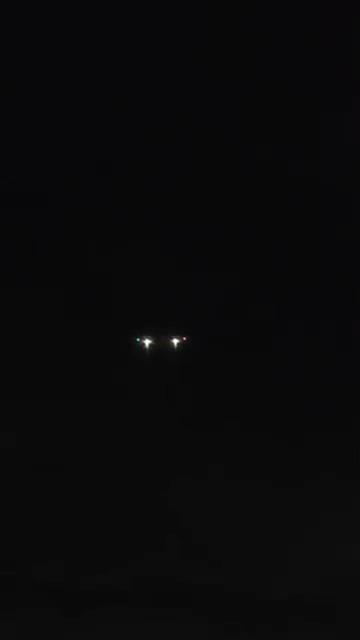Plane: (112, 301, 207, 380)
